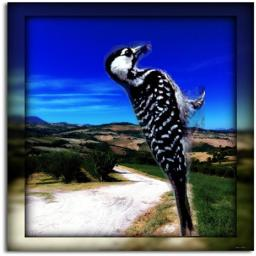Woodpecker: (103, 39, 205, 236)
